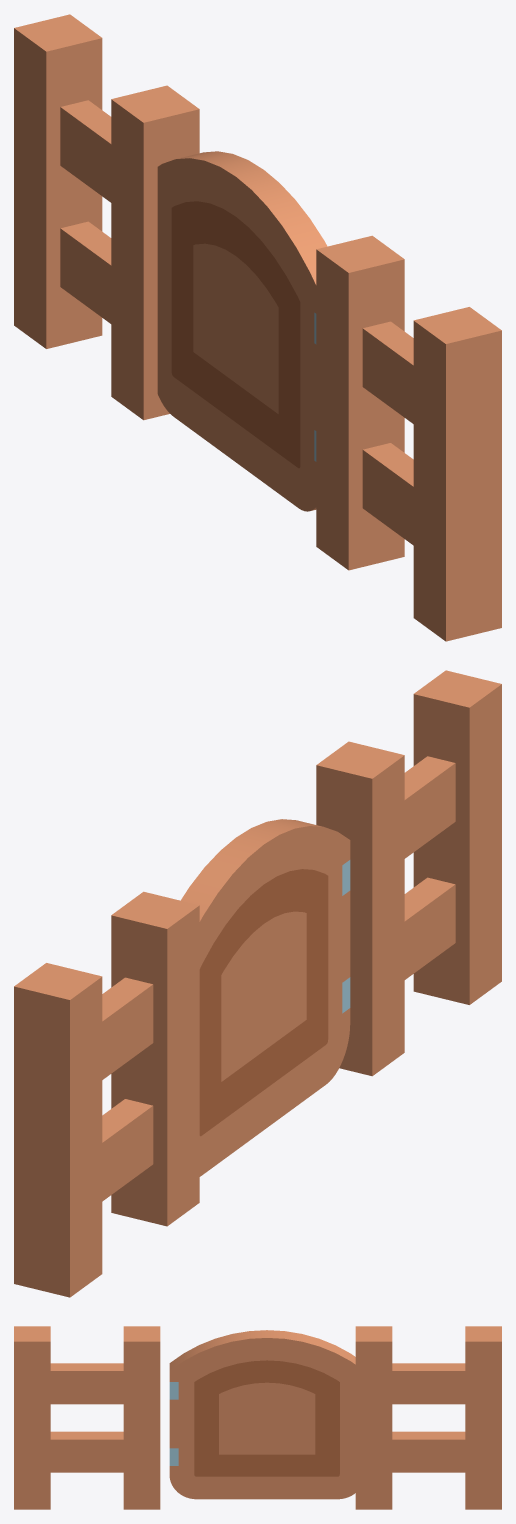
The model's file is fenceGate.glb.
The picture shows the model from 3 angles, top to bottom: view 1: azimuth 30°, elevation 25°; view 2: azimuth 150°, elevation 25°; view 3: azimuth 270°, elevation 25°; orthographic projection. The views are drawn at different scales.
Visible parts, largest first — view 1: fenceGate, fenceGate.001; view 2: fenceGate, fenceGate.001; view 3: fenceGate, fenceGate.001.
Boxes of the visible parts, box(x1,y1,x2,y2) form: fenceGate: box(14, 14, 501, 641); fenceGate.001: box(157, 151, 327, 511); fenceGate: box(14, 670, 501, 1297); fenceGate.001: box(181, 819, 350, 1176); fenceGate: box(14, 1326, 501, 1509); fenceGate.001: box(169, 1330, 355, 1499).
Size of the model in its own units: 0.225 by 1.14 by 3.
